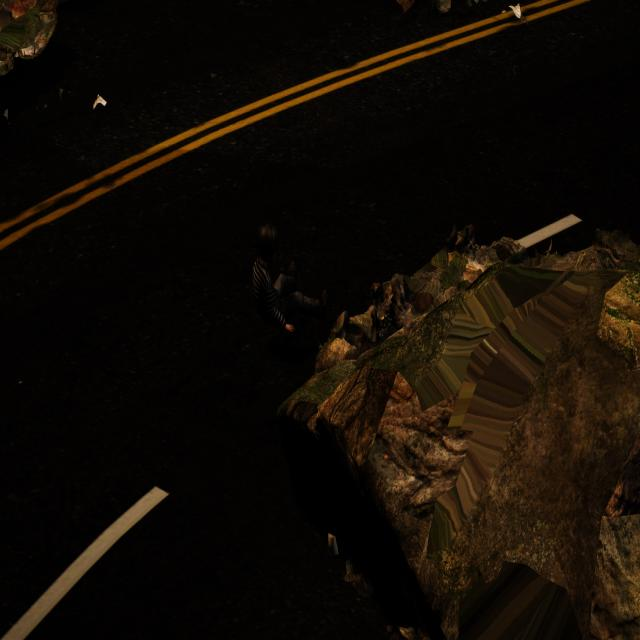Human: (242, 218, 338, 340)
